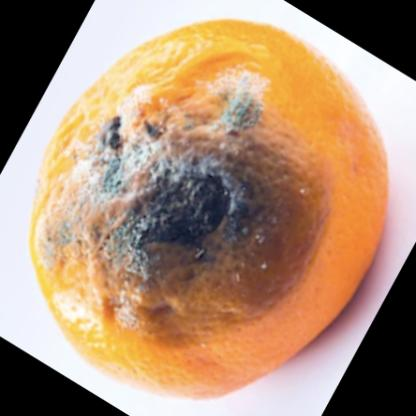rotten: (29, 18, 388, 397)
